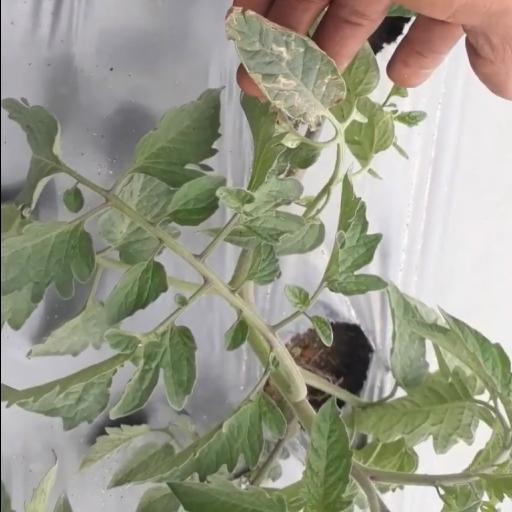disease_tomato: (226, 8, 348, 133)
